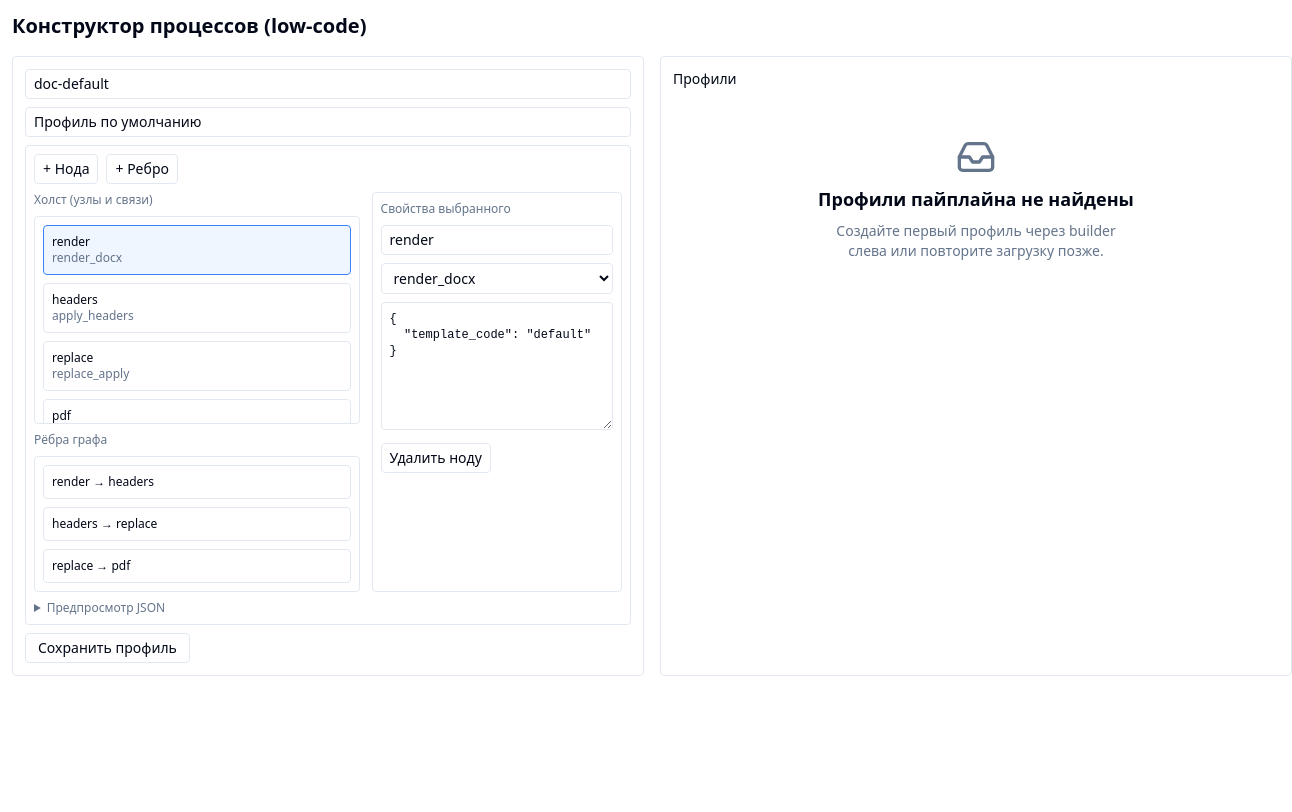
it: PipelineBuilderPage › blocks save for duplicate node ids
Expected: the heading "Профили пайплайна не найдены" is shown, top-left (818, 185), bottom-right (1134, 213)
Click the button "+ Нода".
click(66, 169)  # box top-left (34, 154), bottom-right (98, 184)
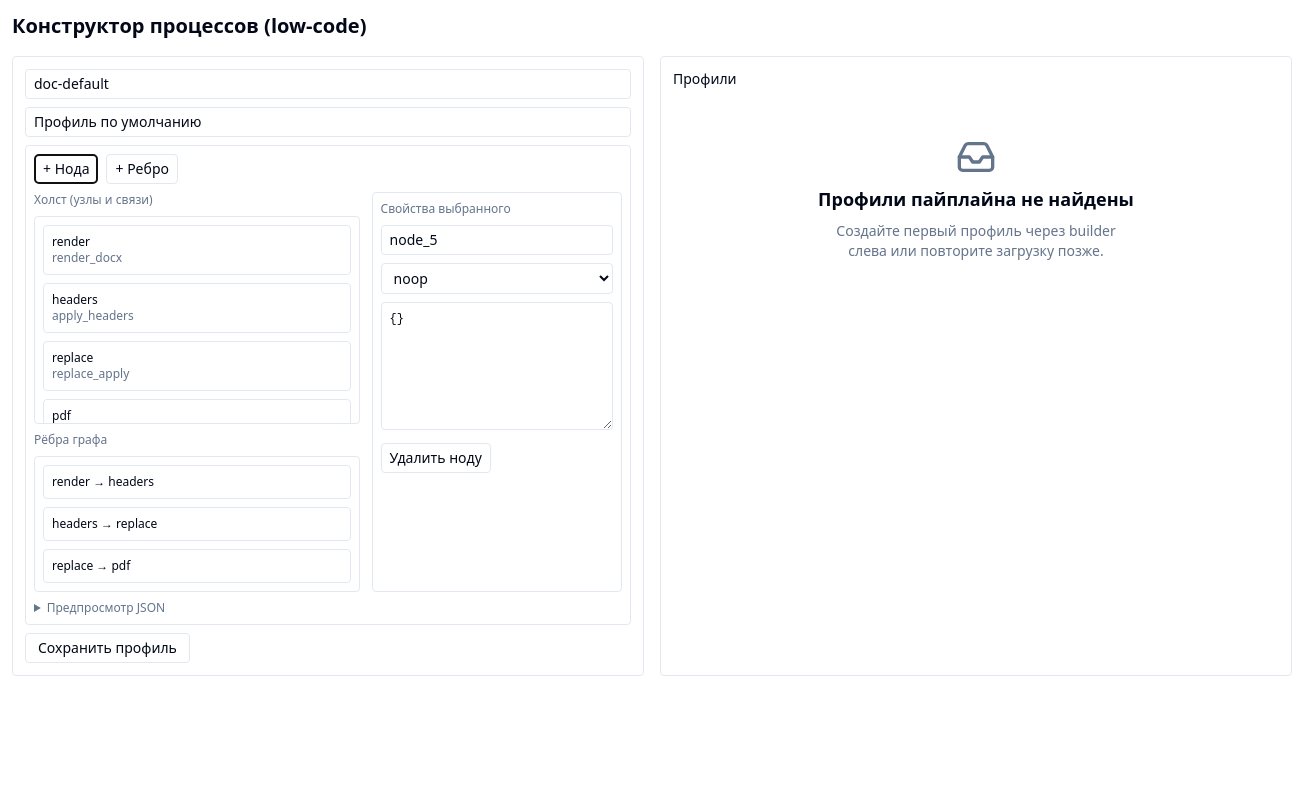
Replace the text in the field showing "node_5" below "Свойства выбранного" with "headers" at point(497, 240), box top-left (381, 225), bottom-right (613, 255)
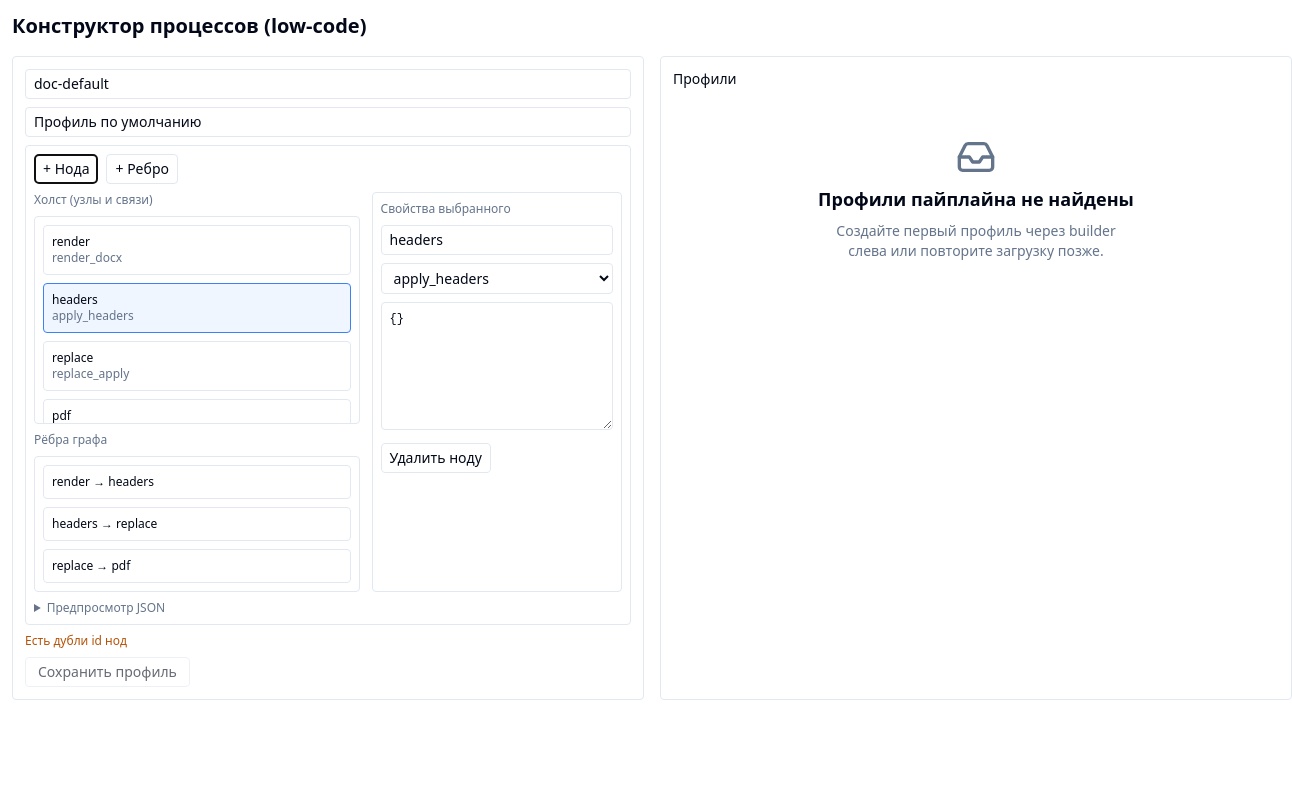
Expected: the text "Есть дубли id нод" is shown, top-left (25, 632), bottom-right (127, 649)
Expected: the button "Сохранить профиль" is disabled, top-left (25, 657), bottom-right (190, 687)
